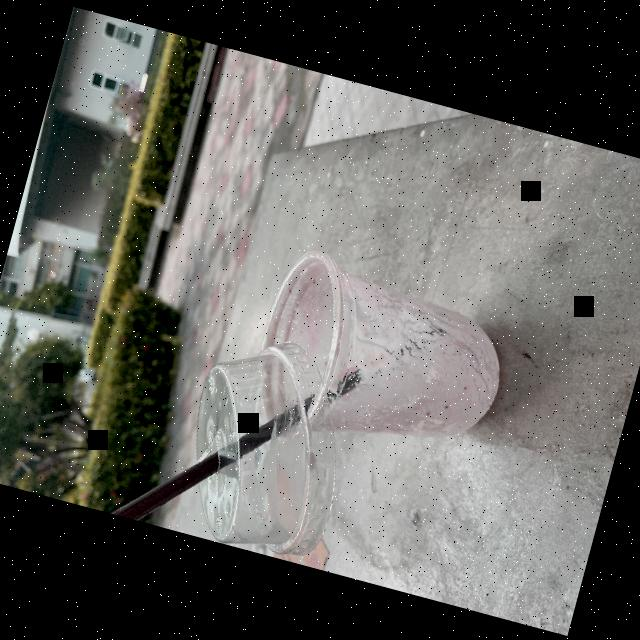plastic_cup: (238, 242, 534, 460)
plastic_cup_lid: (158, 326, 376, 569)
straw: (107, 315, 456, 519)
